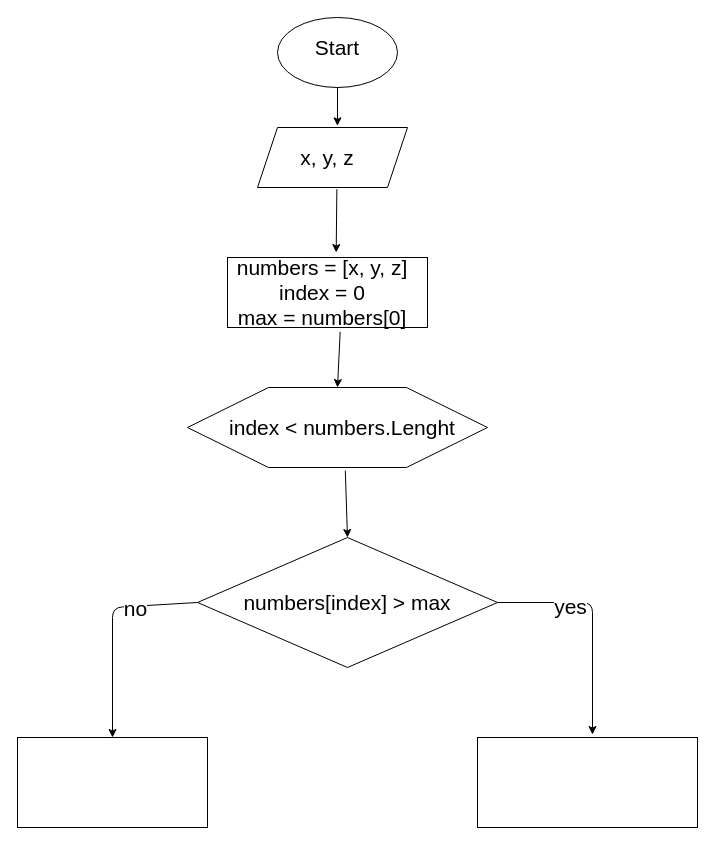
Image size: 715x845. Some labels were removed from this diagram. The centre of each missing label's shape, as x and y in pixels:
"index = index + 1" belongs at [112,782].
"max = numbers[index]" belongs at [587,782].
